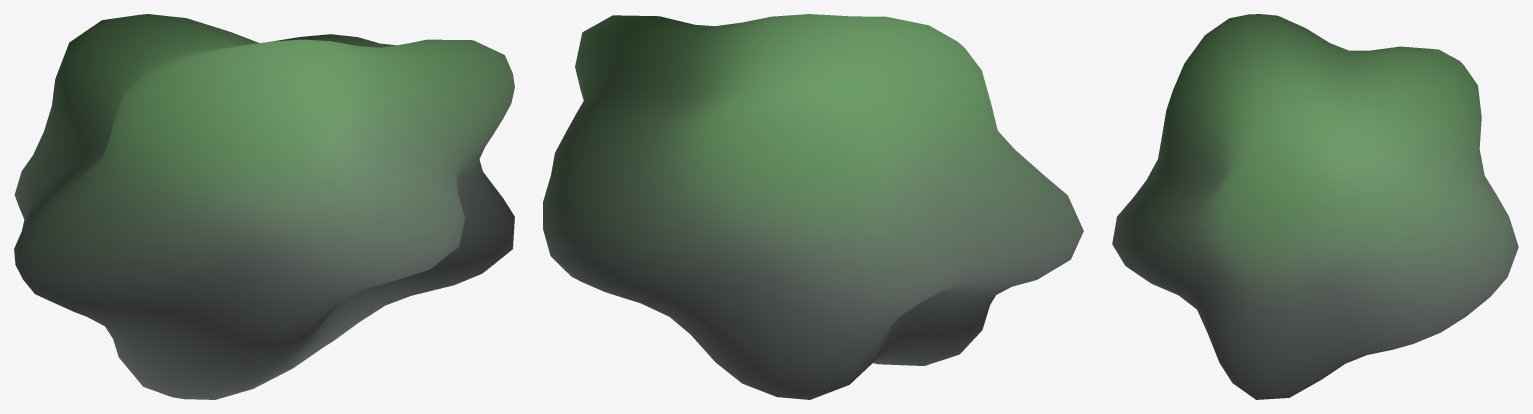
Rendered from boulder_granite.glb.
3 views of the same model, side by side, from view 1: azimuth 30°, elevation 25°; view 2: azimuth 150°, elevation 25°; view 3: azimuth 270°, elevation 25° (orthographic). The views are drawn at different scales.
Parts seen in each view (by area): view 1: GraniteBoulder; view 2: GraniteBoulder; view 3: GraniteBoulder.
Part boxes in pixels (x1,y1,x2,y2): GraniteBoulder: [14, 14, 514, 399]; GraniteBoulder: [543, 14, 1083, 399]; GraniteBoulder: [1112, 14, 1518, 399].
Size of the model in its own units: 5.38 by 3.46 by 4.22.
